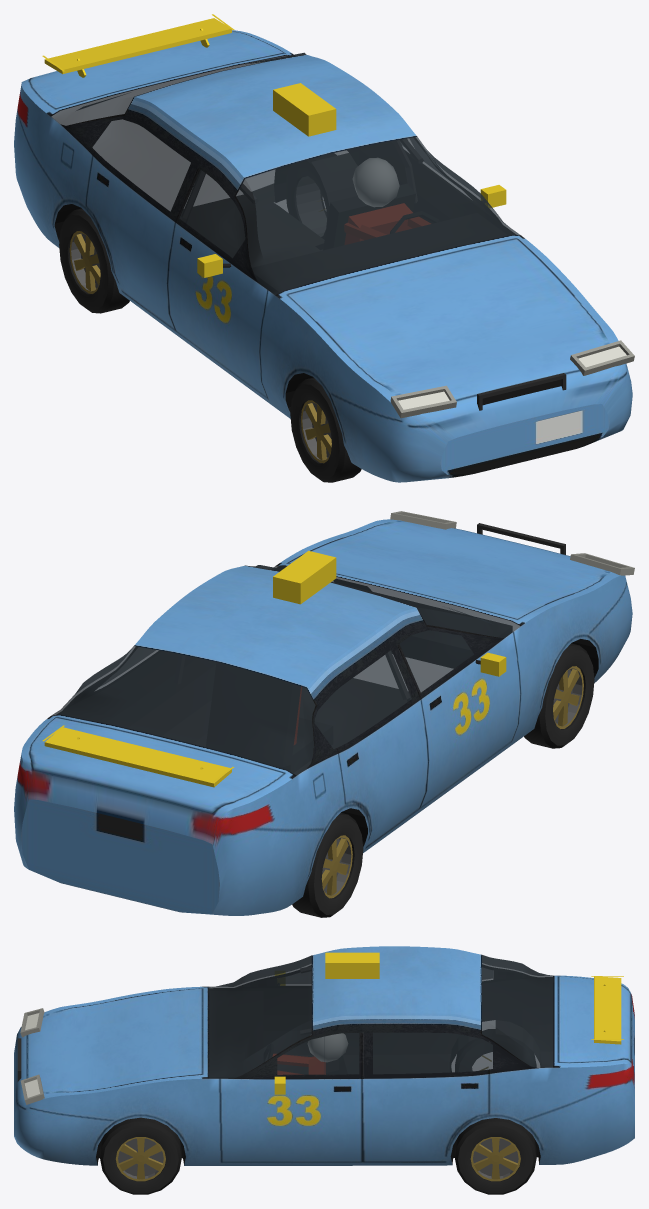
The picture shows the model from 3 angles, top to bottom: view 1: azimuth 30°, elevation 25°; view 2: azimuth 150°, elevation 25°; view 3: azimuth 270°, elevation 25°; orthographic projection. The views are drawn at different scales.
Visible parts, largest first — view 1: body, wheel_fr, wheel_rr, wheel_rl; view 2: body, wheel_rr, wheel_fr; view 3: body, wheel_fl, wheel_rl, wheel_rr.
Boxes of the visible parts, x1,y1,x2,y2 form: body: [14, 14, 634, 482]; wheel_fr: [290, 377, 361, 482]; wheel_rr: [59, 208, 129, 313]; wheel_rl: [286, 153, 336, 249]; body: [14, 511, 634, 915]; wheel_rr: [292, 813, 363, 917]; wheel_fr: [524, 643, 594, 748]; body: [14, 946, 634, 1165]; wheel_fl: [100, 1117, 181, 1194]; wheel_rl: [455, 1118, 536, 1194]; wheel_rr: [455, 1029, 536, 1071].
Size of the model in its own units: 1.96 by 1.54 by 4.55.
2 materials, 1 textured.
